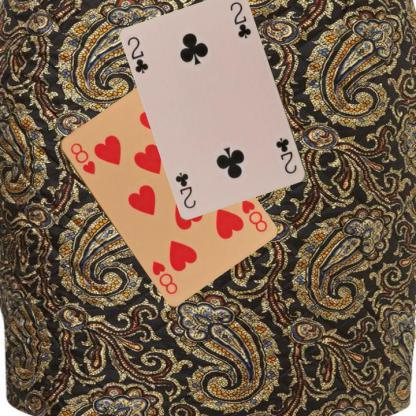2c: (273, 134, 299, 176), (125, 34, 150, 75)
8h: (238, 197, 269, 234), (67, 140, 97, 176)
